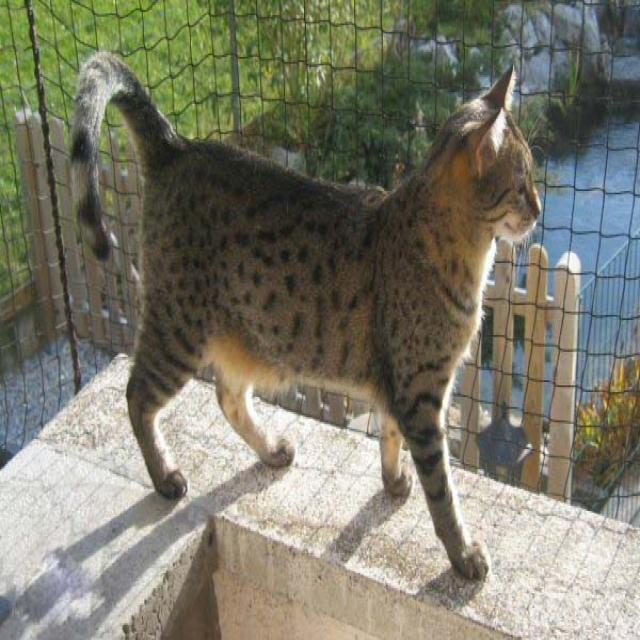Egyptian_Mau: (433, 59, 544, 272)
